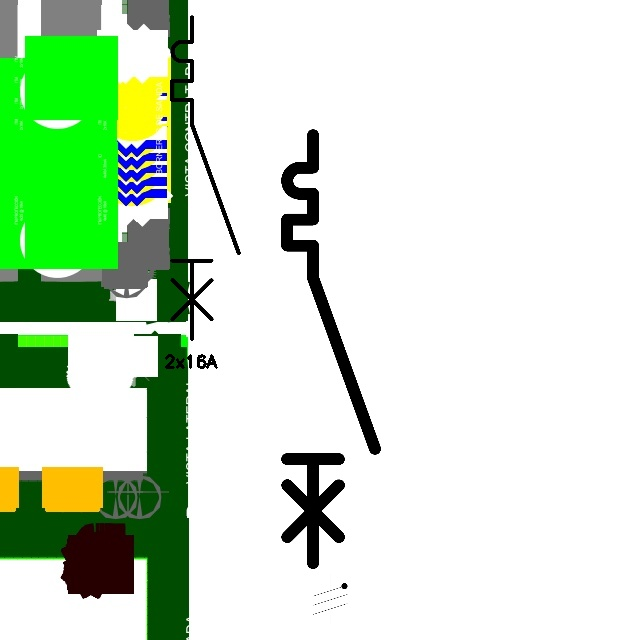interruptor_termomagnetico: (276, 124, 386, 574), (164, 9, 247, 347)
